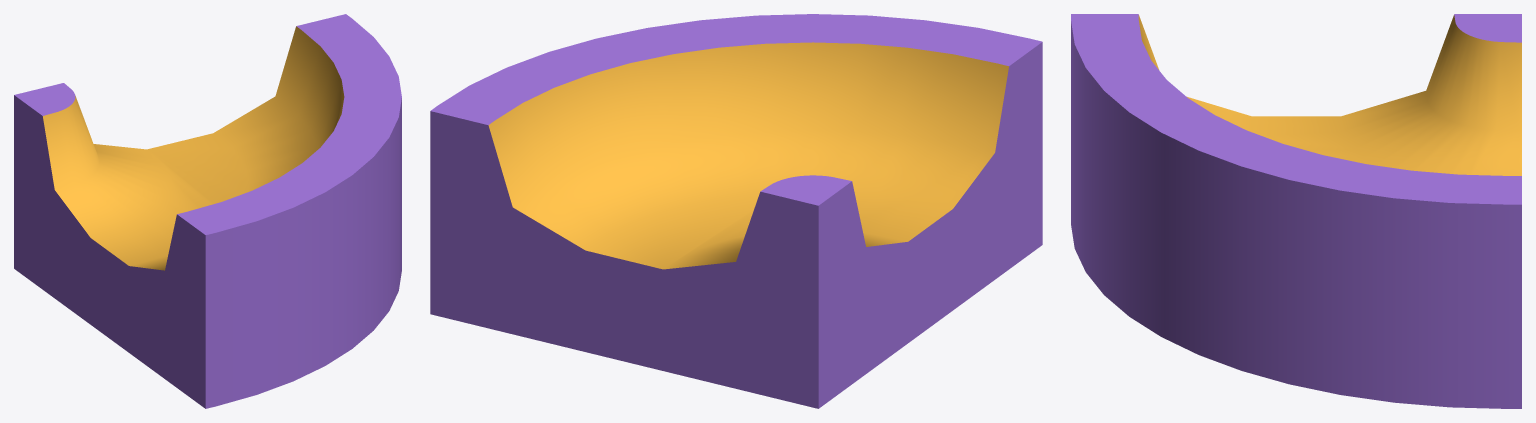
Rendered from kenney-marble-corner.glb.
3 views of the same model, side by side, from view 1: azimuth 30°, elevation 25°; view 2: azimuth 150°, elevation 25°; view 3: azimuth 270°, elevation 25° (orthographic). The views are drawn at different scales.
Parts seen in each view (by area): view 1: corner; view 2: corner; view 3: corner.
Part boxes in pixels (<box>): corner: <box>14,14,401,408</box>; corner: <box>430,14,1042,408</box>; corner: <box>1071,14,1521,408</box>.
Size of the model in its own units: 1 by 0.5001 by 1.
1 material, 1 textured.
